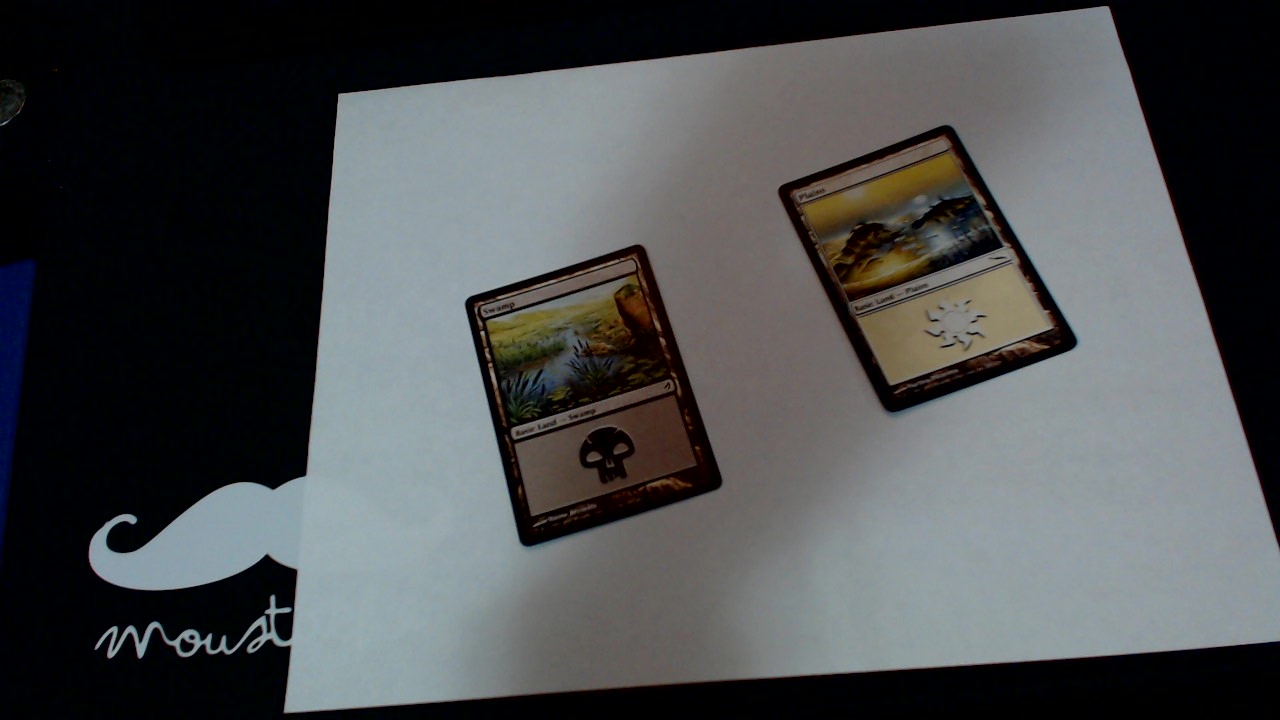MTG Card: (777, 120, 1082, 416), (461, 241, 729, 555)
